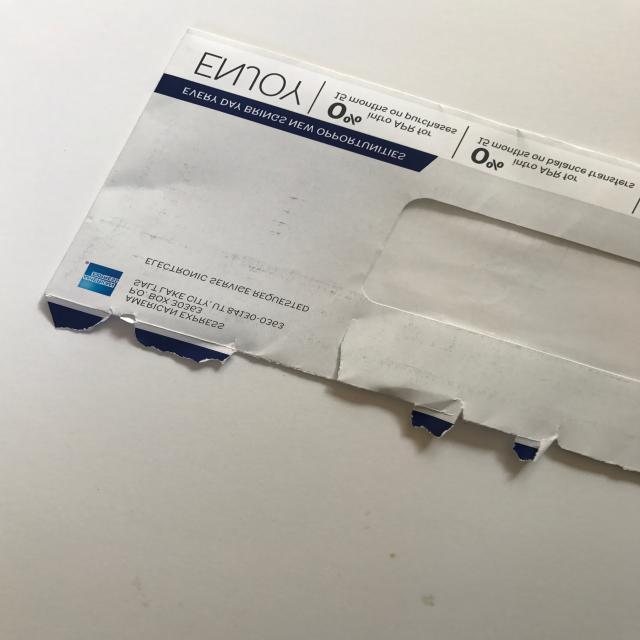paper: (0, 8, 640, 524)
